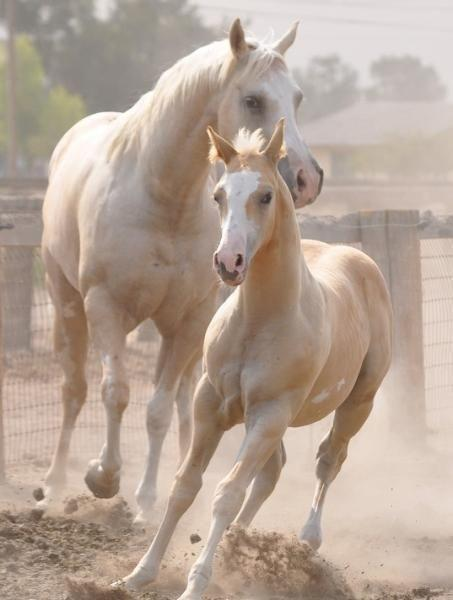horse: (33, 16, 324, 529), (109, 115, 394, 599)
